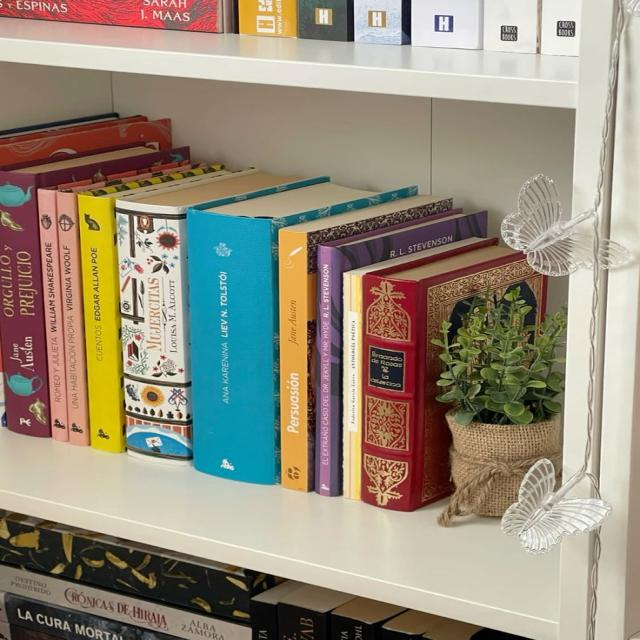book: (187, 183, 417, 483), (344, 238, 545, 511), (315, 210, 486, 496), (116, 170, 282, 459), (280, 196, 431, 491), (343, 251, 431, 500), (0, 172, 49, 437), (78, 193, 124, 452), (57, 191, 88, 445), (38, 189, 68, 441)
plants: (431, 287, 565, 526)
